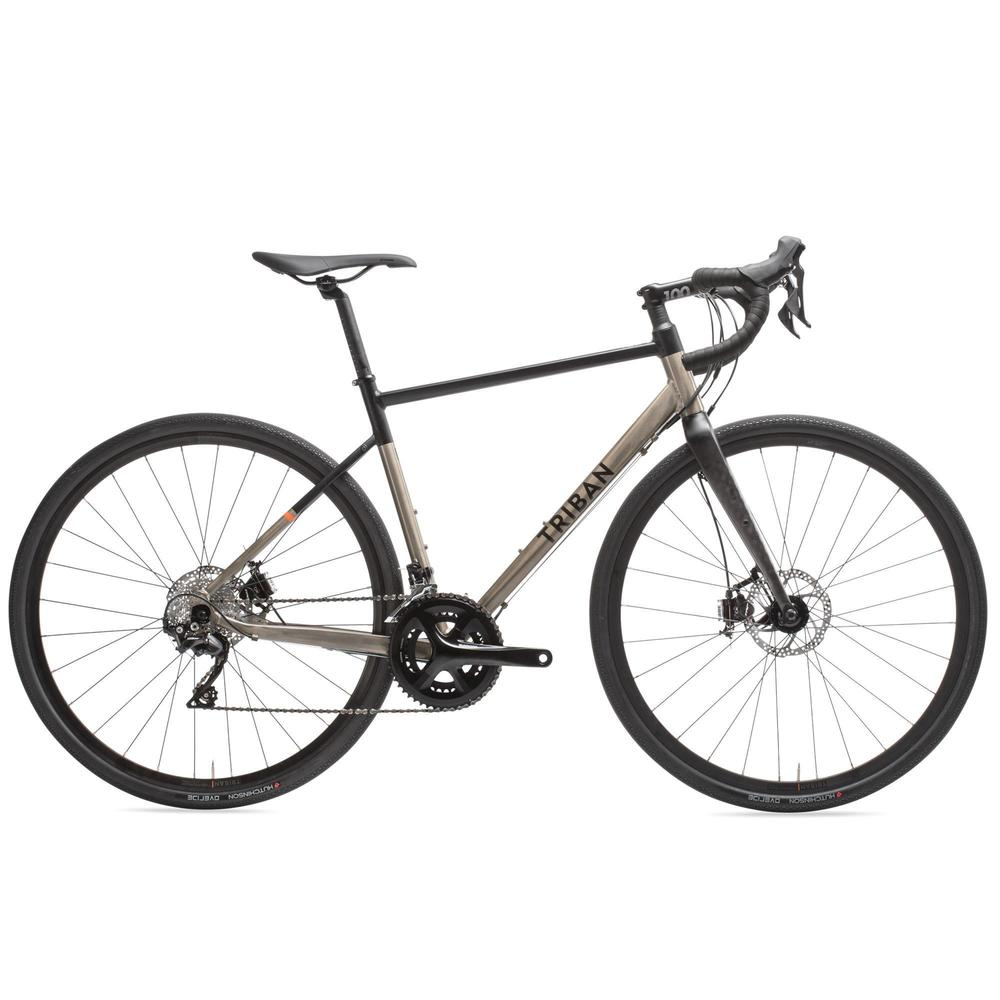RoadBike: (1, 237, 1000, 810)
